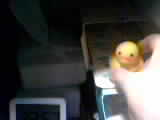duck: (101, 35, 140, 78)
